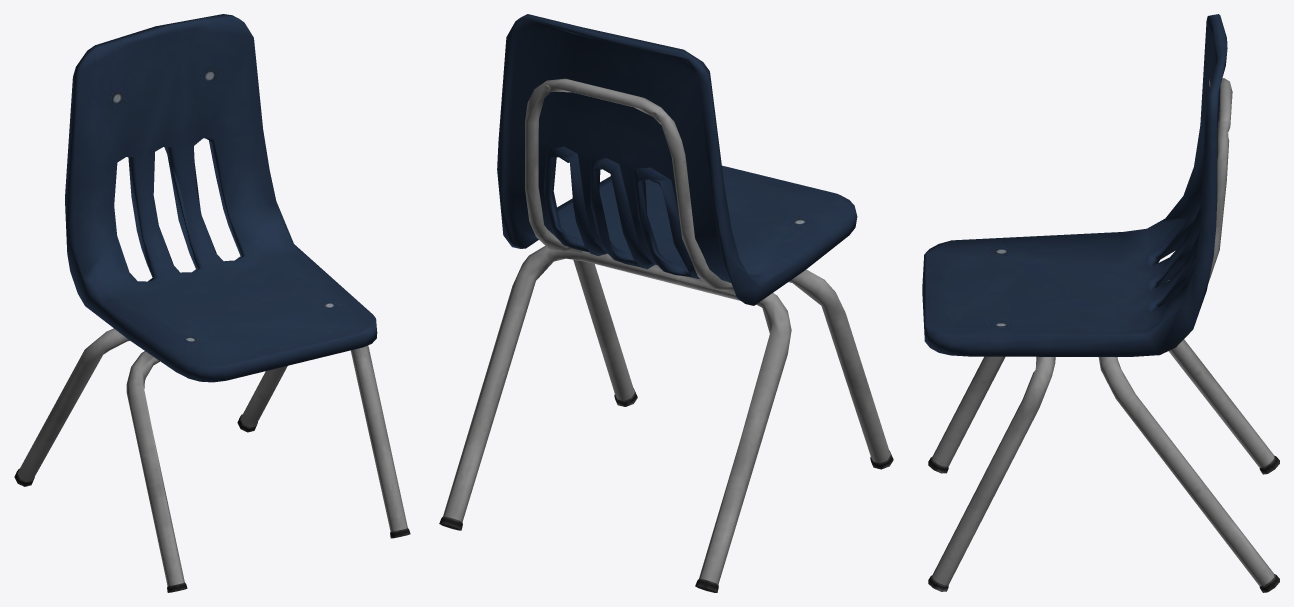
The model's file is schoolchair_01.glb.
3 renders of one model, left to right at view 1: azimuth 30°, elevation 25°; view 2: azimuth 150°, elevation 25°; view 3: azimuth 270°, elevation 25°, orthographic. The views are drawn at different scales.
Parts seen in each view (by area): view 1: SchoolChair_01; view 2: SchoolChair_01; view 3: SchoolChair_01.
Boxes of the visible parts, x1,y1,x2,y2 form: SchoolChair_01: [14, 14, 410, 592]; SchoolChair_01: [439, 14, 893, 592]; SchoolChair_01: [922, 14, 1279, 592].
Bounding box in the file's own units: 0.5659 × 1 × 0.673.
Materials: 1 (1 with a texture image).
